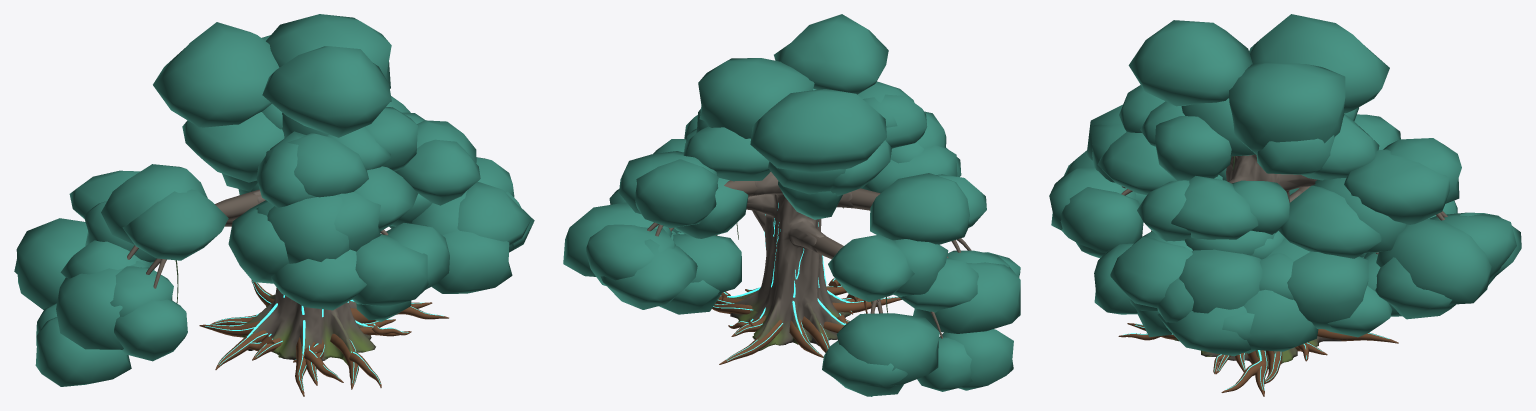
Rendered from arvore-mae-leve.glb.
3 views of the same model, side by side, from view 1: azimuth 30°, elevation 25°; view 2: azimuth 150°, elevation 25°; view 3: azimuth 270°, elevation 25° (orthographic). The views are drawn at different scales.
Visible parts, largest first — view 1: copa_mae, tronco, galho.034, raiz.008, raiz.007, raiz.017; view 2: copa_mae, tronco, raiz.005, galho.034, galho.010, raiz.011, raiz.006; view 3: copa_mae, tronco, raiz.005, raiz.001.
Boxes of the visible parts, x1,y1,x2,y2 form: copa_mae: [14, 14, 534, 386]; tronco: [241, 190, 376, 364]; galho.034: [215, 189, 261, 220]; raiz.008: [215, 330, 266, 369]; raiz.007: [199, 320, 261, 337]; raiz.017: [330, 333, 358, 389]; copa_mae: [563, 14, 1020, 396]; tronco: [728, 172, 853, 351]; raiz.005: [719, 320, 782, 364]; galho.034: [842, 188, 880, 210]; galho.010: [806, 231, 843, 259]; raiz.011: [832, 297, 901, 313]; raiz.006: [789, 318, 823, 357]; copa_mae: [1049, 14, 1521, 356]; tronco: [1174, 154, 1341, 368]; raiz.005: [1317, 329, 1398, 343]; raiz.001: [1247, 350, 1268, 396].
Size of the model in its own units: 63.77 by 44.03 by 60.09.
